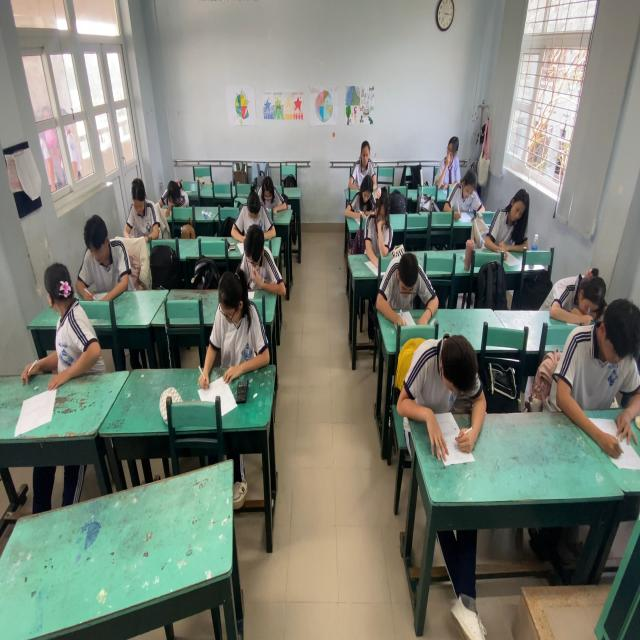cheating: (36, 261, 102, 383), (436, 129, 467, 181)
not_cheating: (569, 288, 639, 425), (409, 328, 490, 437), (80, 202, 134, 306), (218, 270, 268, 375), (375, 250, 439, 331), (548, 252, 604, 326), (126, 169, 166, 257), (487, 181, 531, 257), (237, 220, 283, 292), (158, 150, 190, 226), (364, 184, 394, 258), (238, 186, 274, 241), (448, 167, 484, 213), (259, 160, 289, 214), (340, 172, 376, 213), (350, 137, 379, 178)
